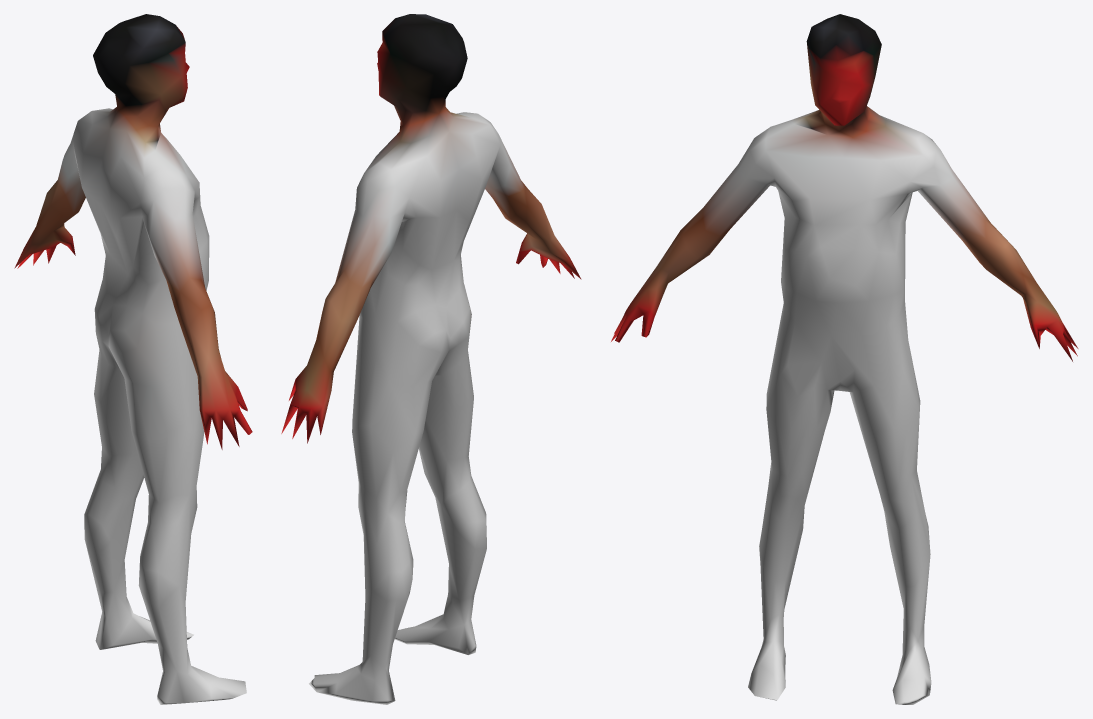
The model's file is lemon_low.fbx.
The picture shows the model from 3 angles, left to right: view 1: azimuth 30°, elevation 25°; view 2: azimuth 150°, elevation 25°; view 3: azimuth 270°, elevation 25°; orthographic projection.
Visible parts, largest first — view 1: man_free; view 2: man_free; view 3: man_free.
Boxes of the visible parts, x1,y1,x2,y2 form: man_free: (14, 14, 252, 704); man_free: (281, 14, 581, 704); man_free: (611, 14, 1078, 704).
Bounding box in the file's own units: 88.26 × 438 × 287.
